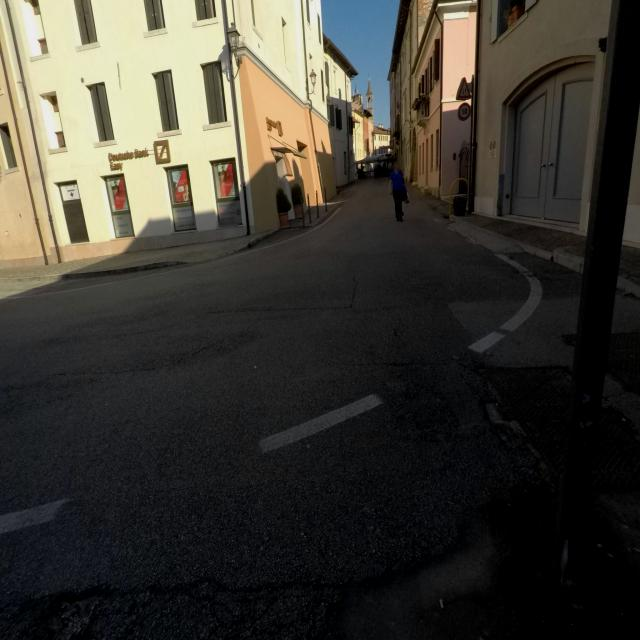car: (311, 507, 416, 583)
